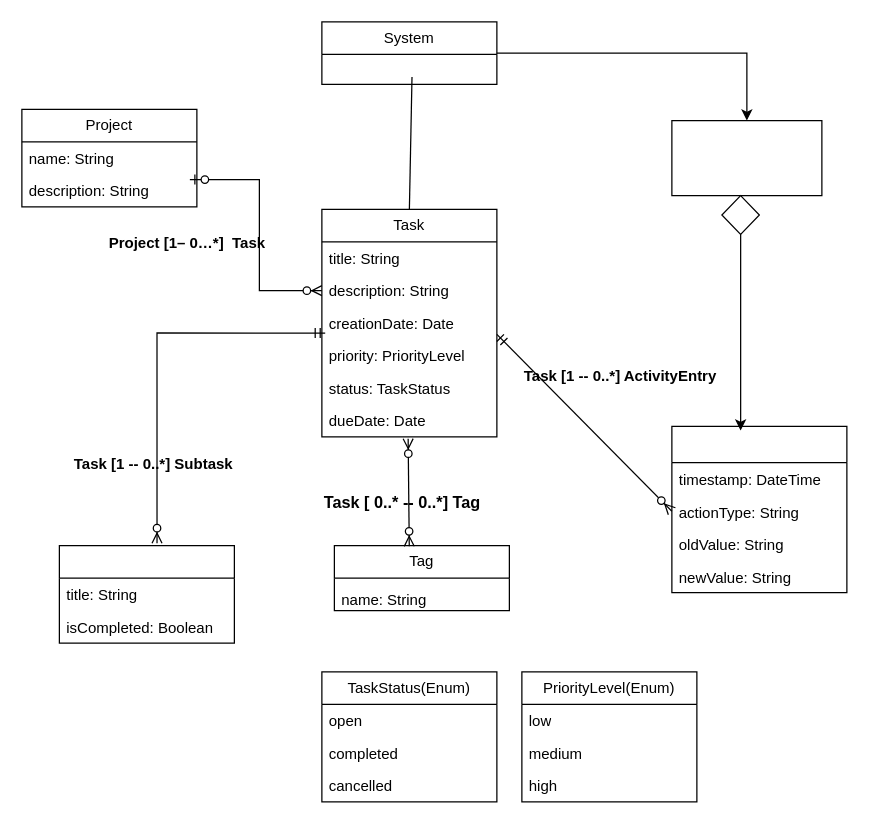
Image size: 869x828. Some labels were removed from this diagram. The shapes that lost their labels are listed below. From the top down, each one's box as (x1, y1, x2, y2) in pixels, then its label:
(671, 119, 822, 196): Record history
(671, 425, 847, 592): ActivityEntry
(58, 544, 234, 643): SubTask
